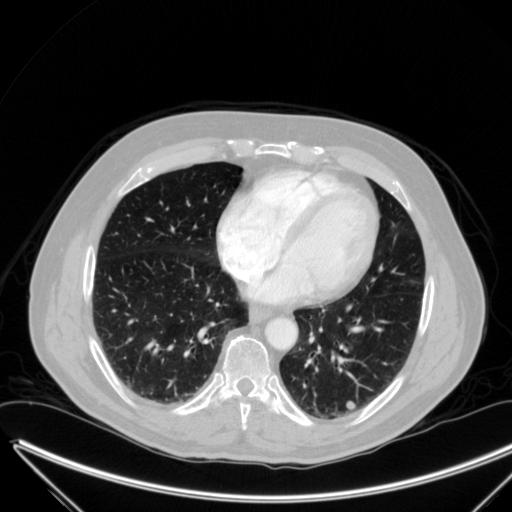nodule: (343, 398, 358, 413)
